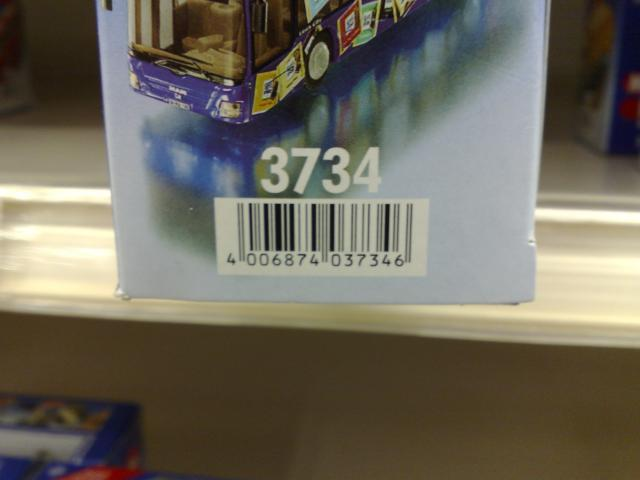Barcode: (223, 199, 419, 271)
